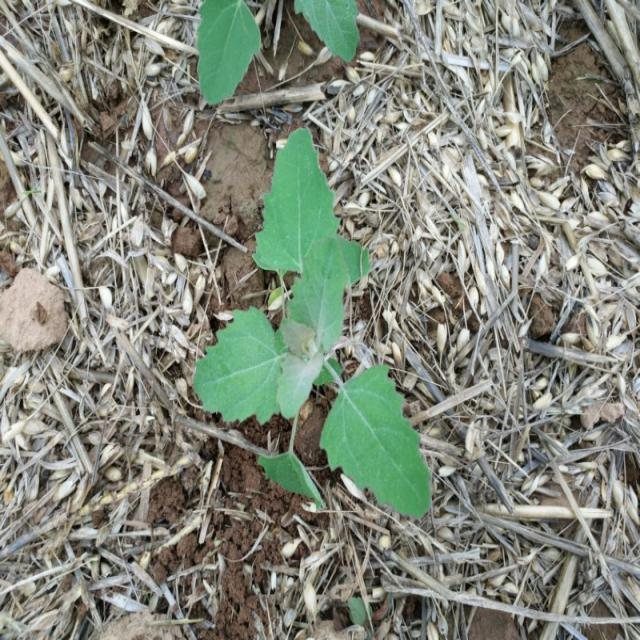goosefoots: (176, 131, 434, 559)
